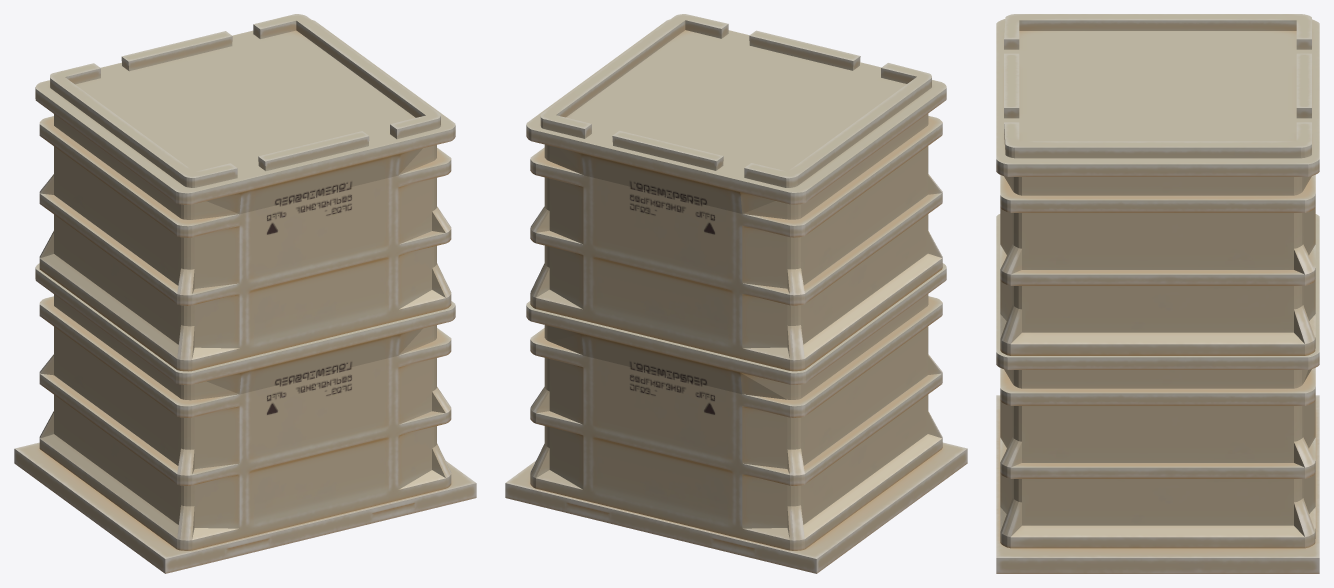
The model's file is P_StorageBox_002_S1_M02.obj.
3 renders of one model, left to right at view 1: azimuth 30°, elevation 25°; view 2: azimuth 150°, elevation 25°; view 3: azimuth 270°, elevation 25°, orthographic. The views are drawn at different scales.
Size of the model in its own units: 0.9 by 1.06 by 0.7566.
1 material, 1 textured.
